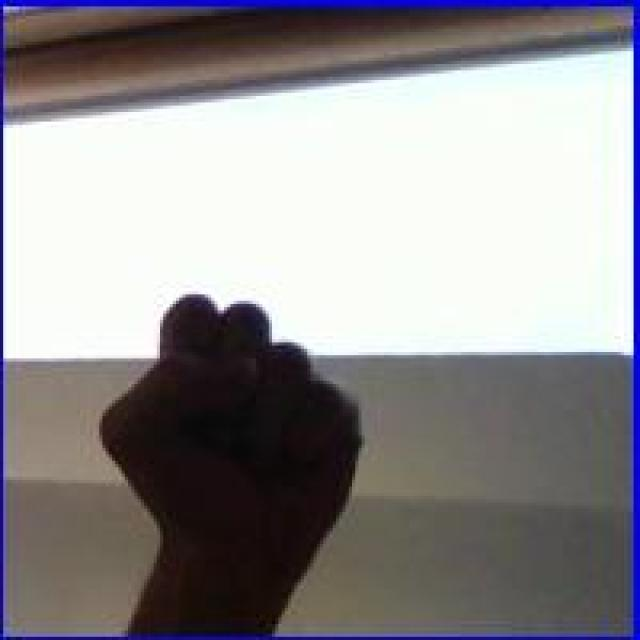S: (96, 285, 371, 541)
